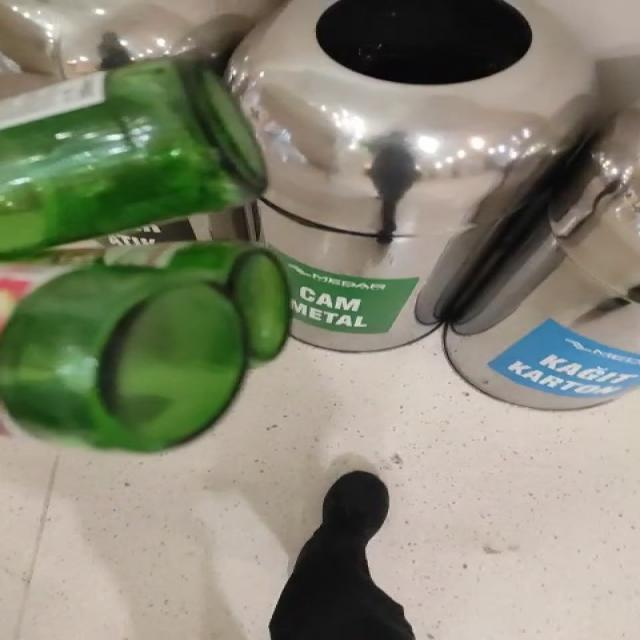Bin: (228, 0, 640, 410)
Glass: (1, 58, 291, 452)
